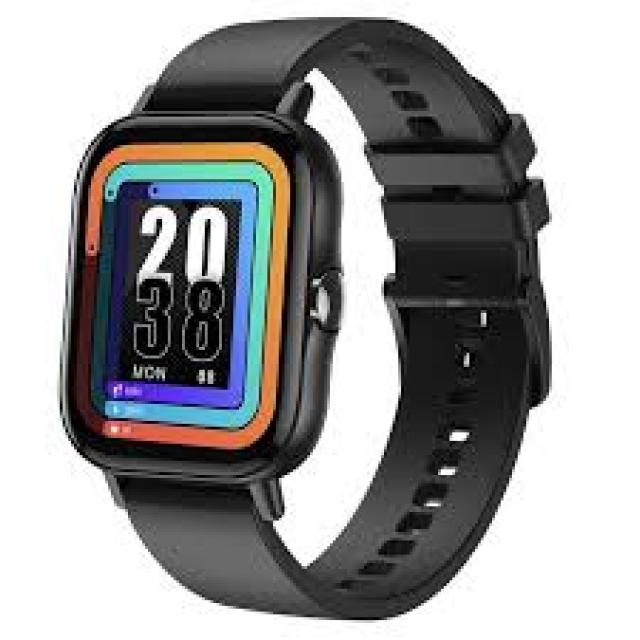objects: (63, 17, 549, 621)
